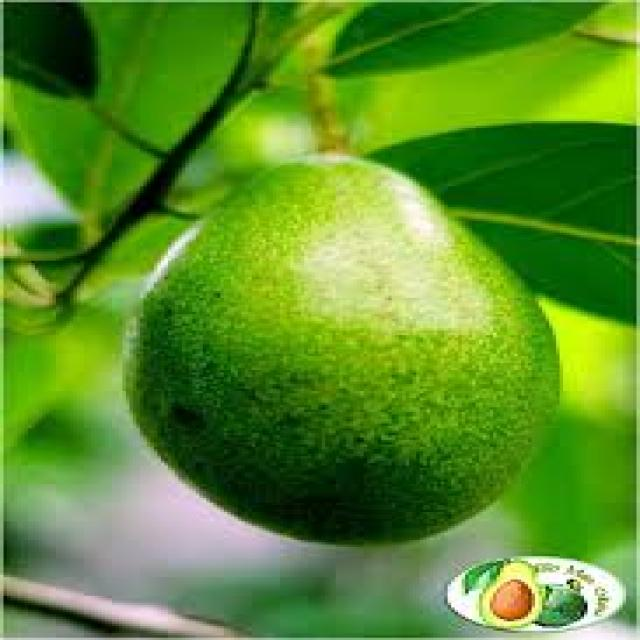Bo: (116, 153, 570, 556)
